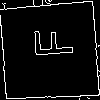F: (25, 26, 74, 60)
